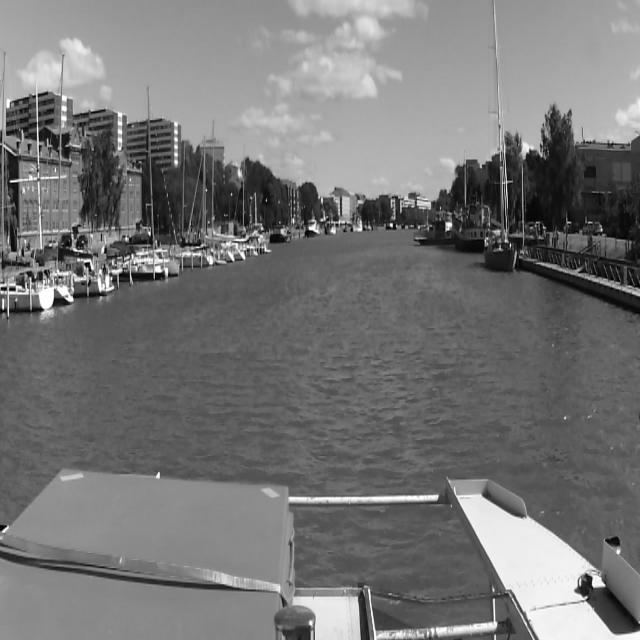ship: (1, 50, 56, 308), (58, 53, 114, 304), (119, 85, 179, 278), (485, 12, 519, 268), (210, 119, 244, 261), (180, 135, 212, 263), (454, 196, 483, 250), (246, 193, 270, 254), (416, 217, 450, 244), (271, 225, 291, 242), (304, 219, 320, 238), (324, 215, 336, 235), (352, 219, 362, 232), (363, 221, 373, 231), (343, 221, 351, 233)
